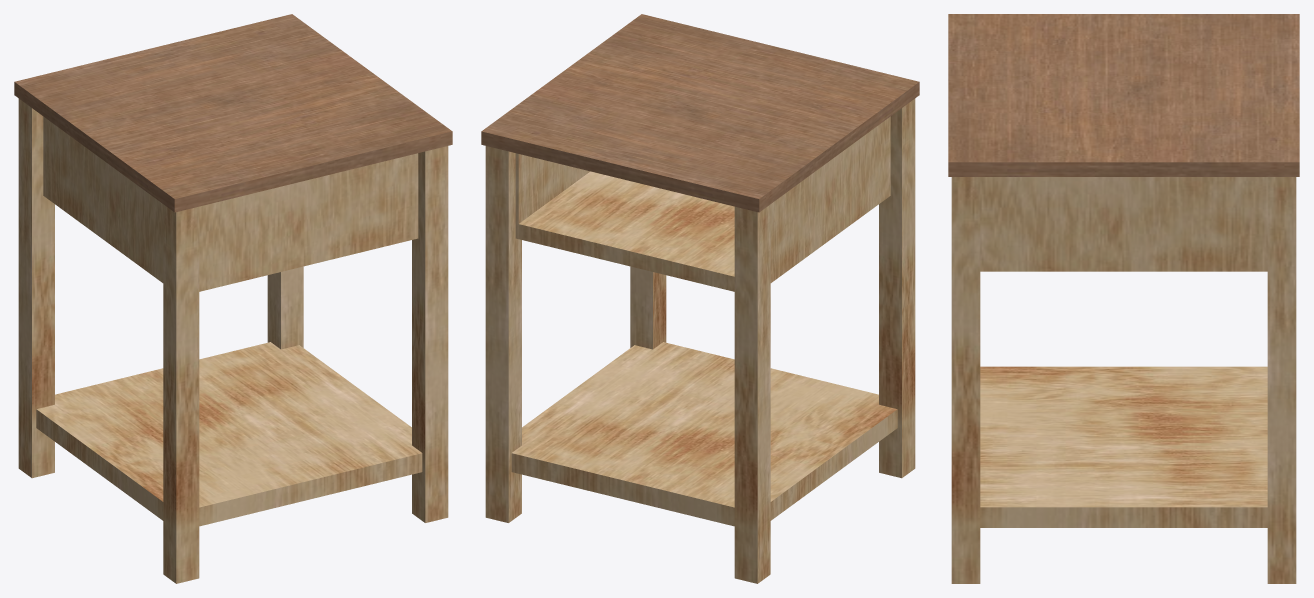
File: Table_42.glb
The picture shows the model from 3 angles, left to right: view 1: azimuth 30°, elevation 25°; view 2: azimuth 150°, elevation 25°; view 3: azimuth 270°, elevation 25°; orthographic projection. The views are drawn at different scales.
Visible parts, largest first — view 1: Table_42; view 2: Table_42; view 3: Table_42.
Boxes of the visible parts, x1,y1,x2,y2 form: Table_42: (14,14,452,583); Table_42: (481,14,919,583); Table_42: (948,14,1299,583).
Bounding box in the file's own units: 0.526 × 0.6993 × 0.526.
Materials: 2 (2 with a texture image).
